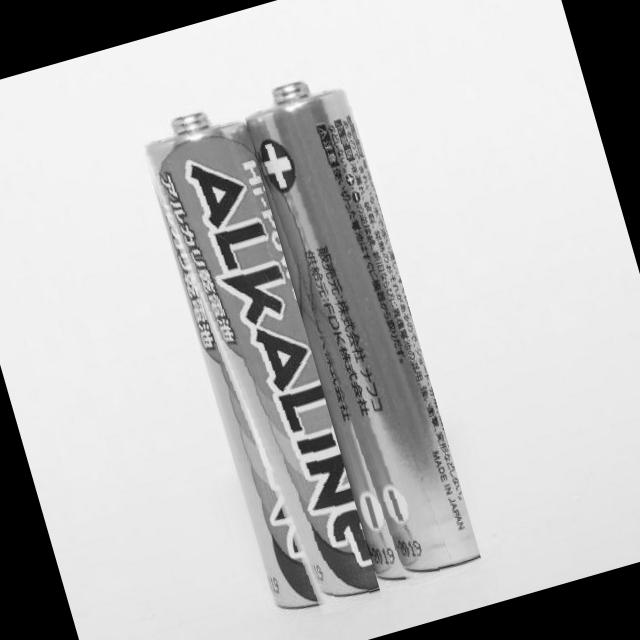Hazard: (130, 92, 382, 628), (236, 65, 484, 596)
